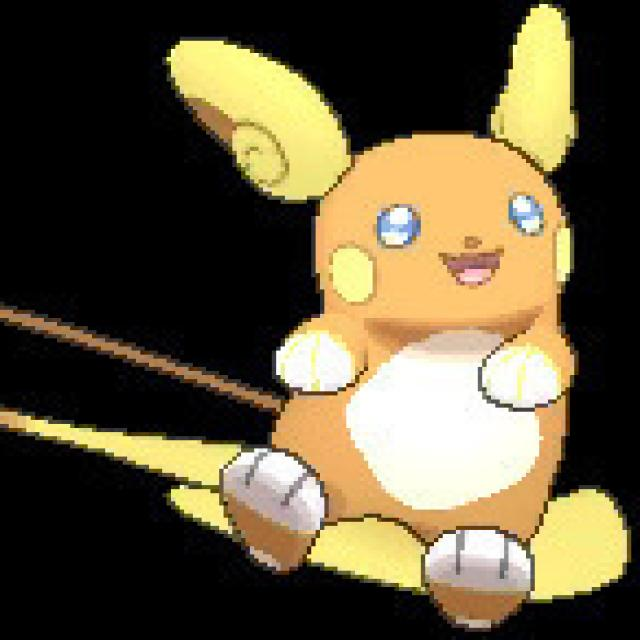Raichu: (198, 10, 594, 608)
